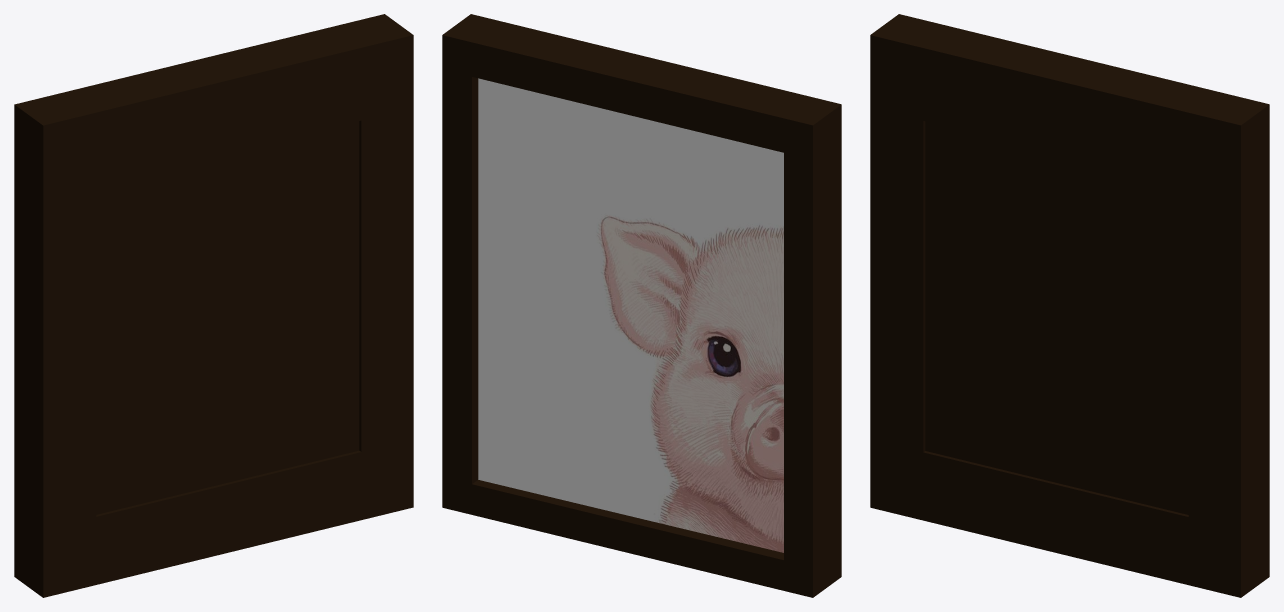
The model's file is final_painting_3.fbx.
3 views of the same model, side by side, from view 1: azimuth 30°, elevation 25°; view 2: azimuth 150°, elevation 25°; view 3: azimuth 330°, elevation 25° (orthographic).
Visible parts, largest first — view 1: quadro_1; view 2: Canvas, quadro_1; view 3: quadro_1.
Part boxes in pixels (x1=…): quadro_1: x1=14, y1=14, x2=413, y2=597; Canvas: x1=478, y1=78, x2=783, y2=552; quadro_1: x1=442, y1=14, x2=841, y2=597; quadro_1: x1=870, y1=14, x2=1269, y2=597.
Size of the model in its own units: 35.66 by 43.43 by 4.83.
Materials: 2 (1 with a texture image).
